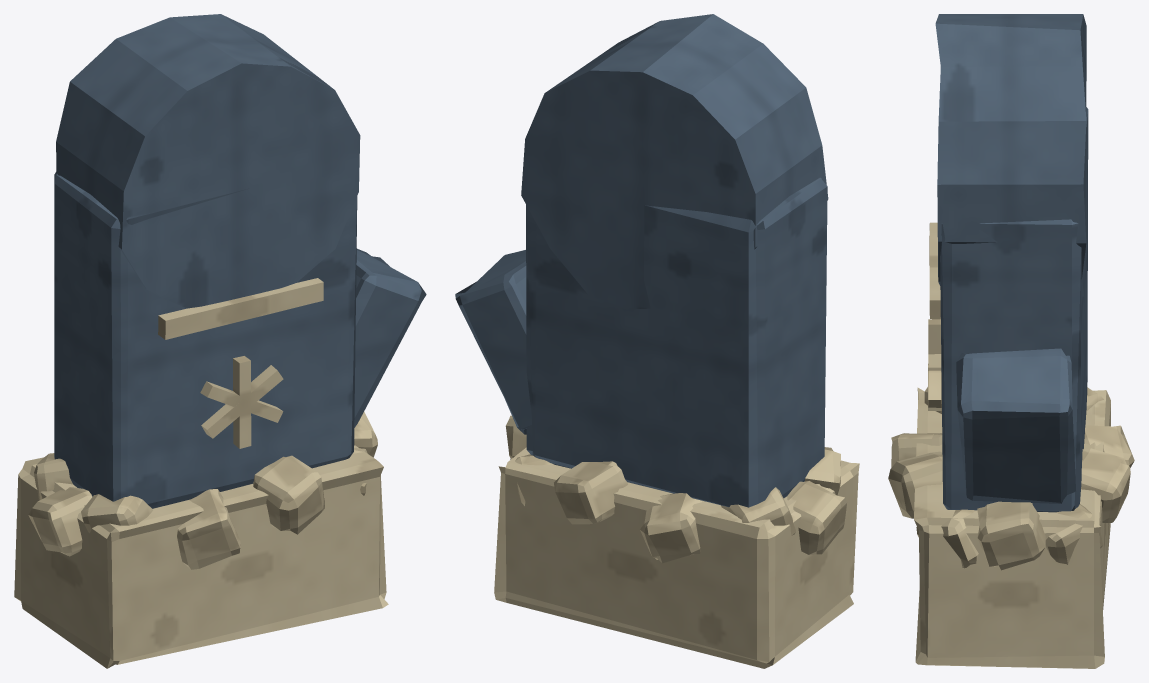
File: frostbite_mitts.glb
The picture shows the model from 3 angles, left to right: view 1: azimuth 30°, elevation 25°; view 2: azimuth 150°, elevation 25°; view 3: azimuth 270°, elevation 25°; orthographic projection. The views are drawn at different scales.
Parts seen in each view (by area): view 1: FrostbiteMitts; view 2: FrostbiteMitts; view 3: FrostbiteMitts.
Part boxes in pixels (x1,y1,x2,y2): FrostbiteMitts: (14, 14, 426, 668); FrostbiteMitts: (455, 14, 859, 668); FrostbiteMitts: (888, 14, 1134, 668).
Bounding box in the file's own units: 0.4496 × 0.6803 × 0.2621.
2 materials, 2 textured.
